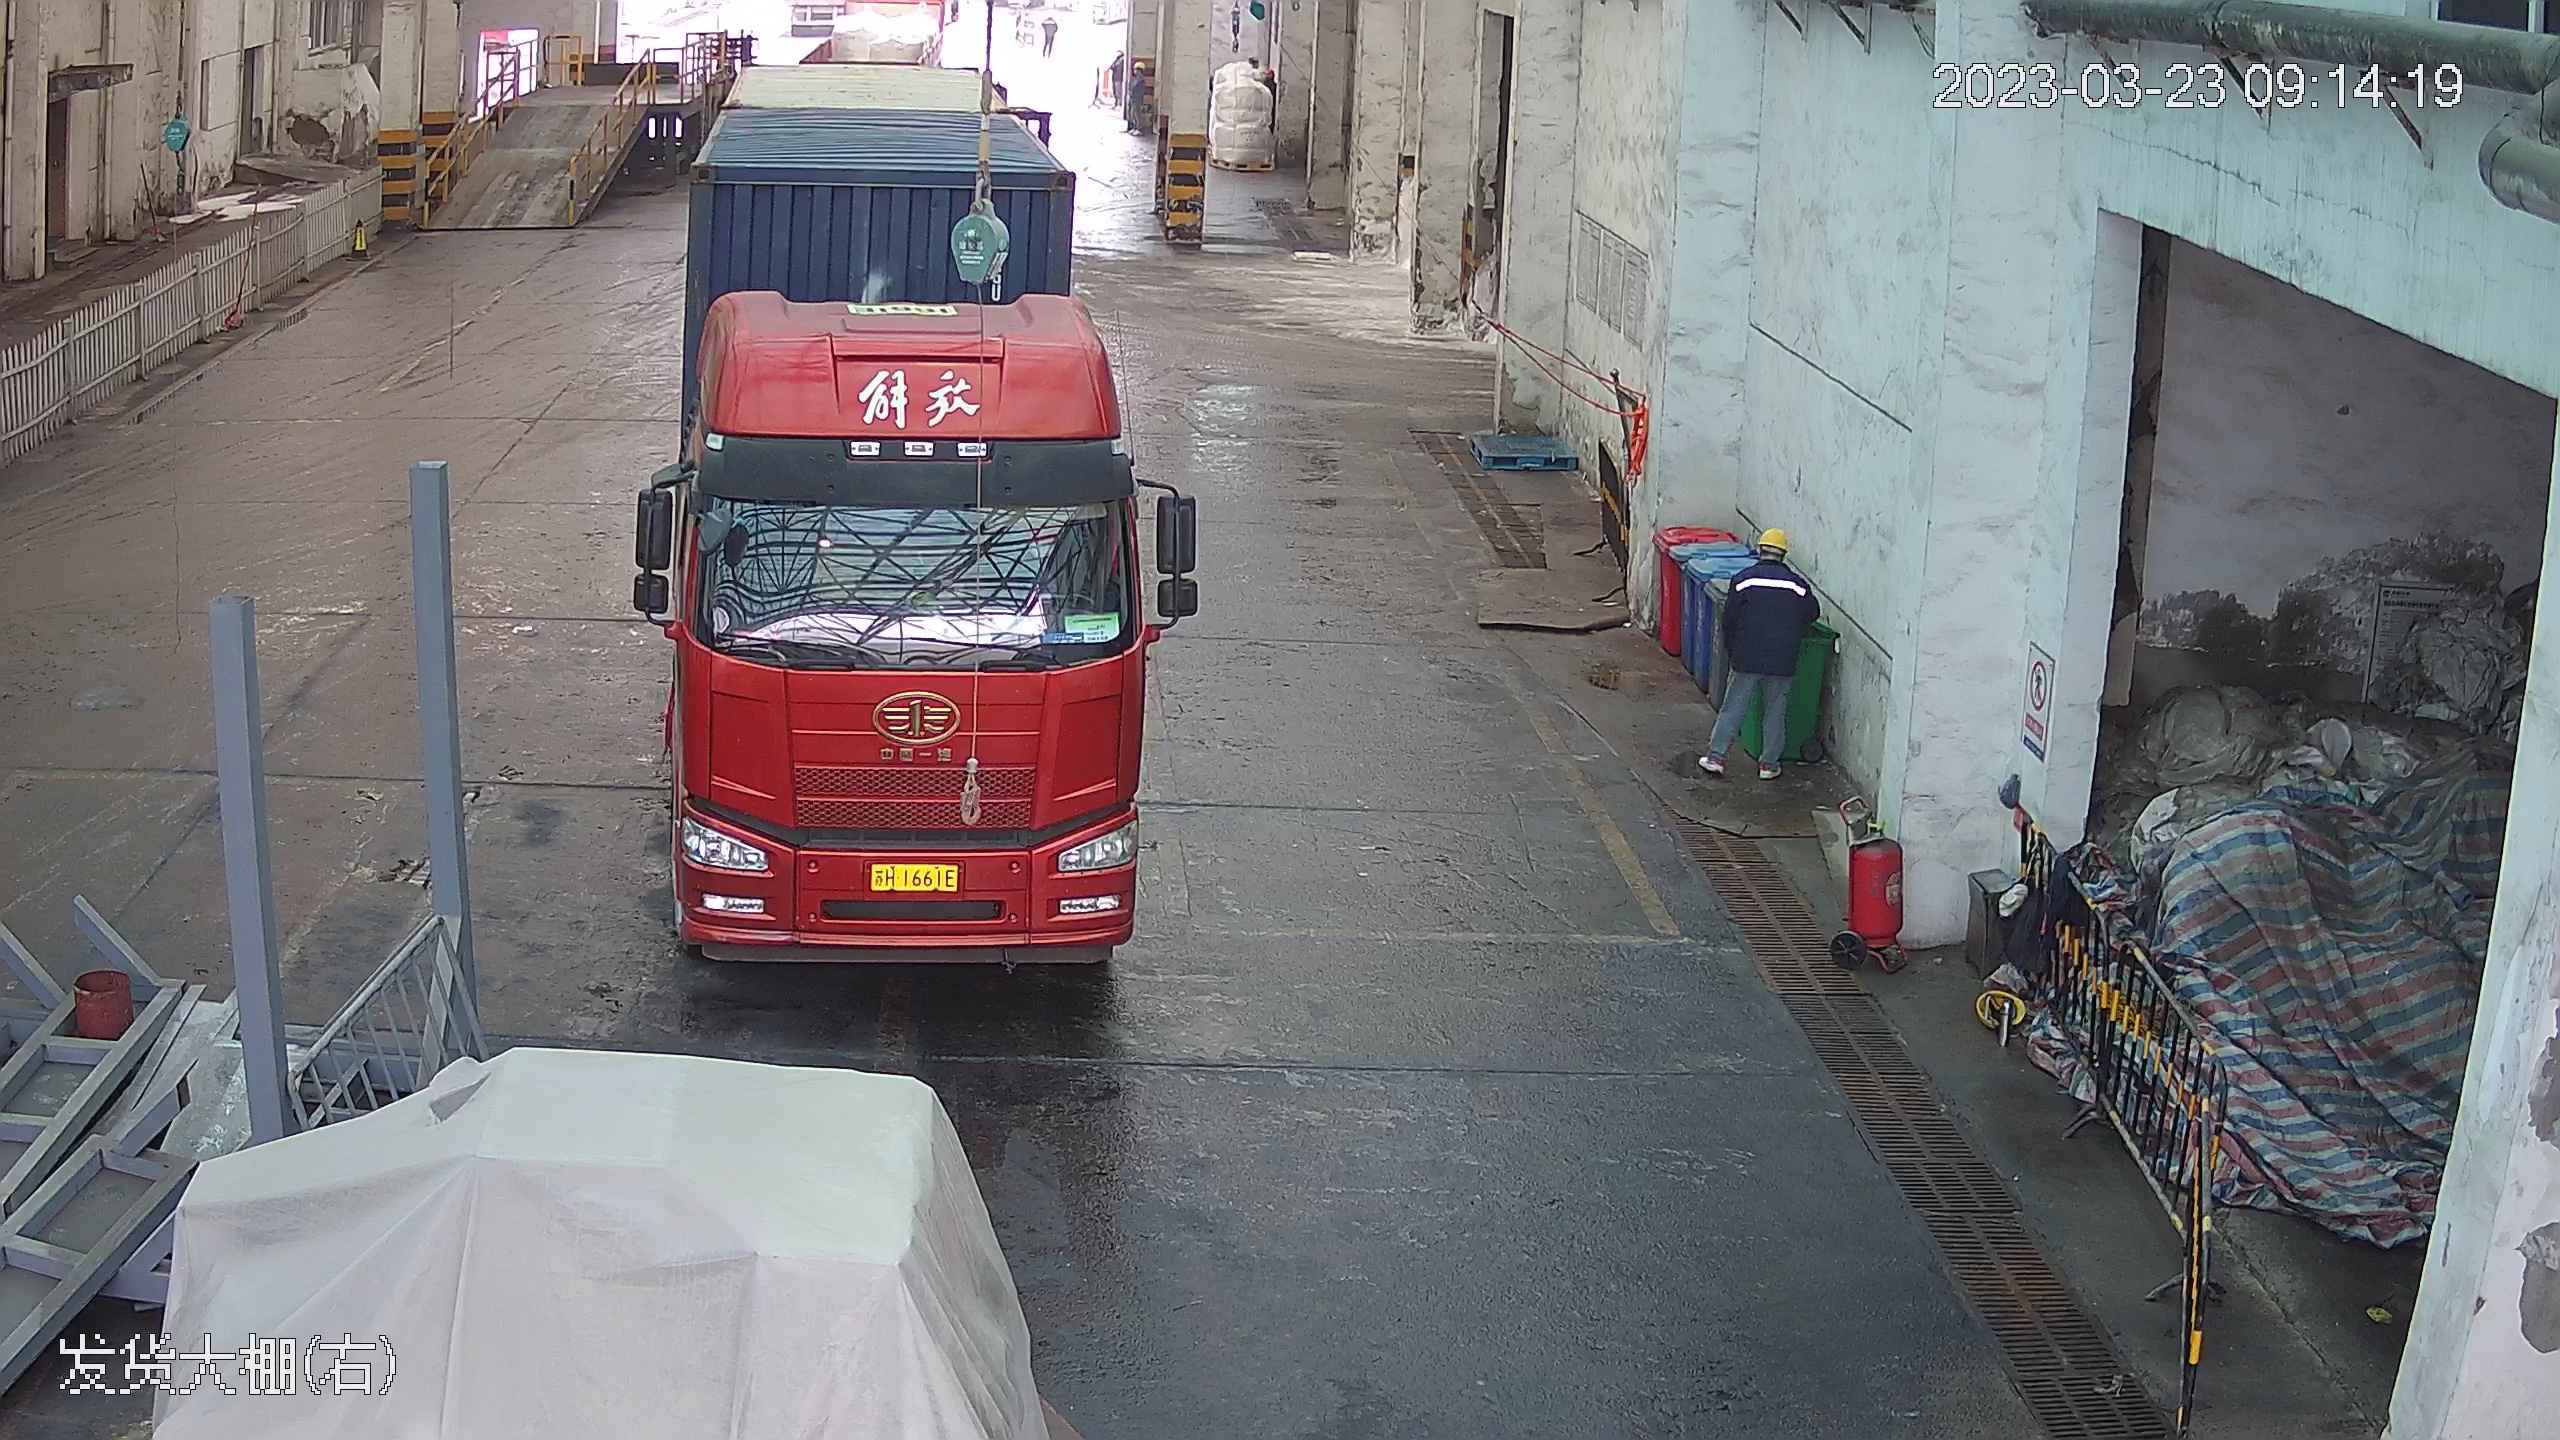head: (1726, 522, 1813, 611)
helmet: (1754, 523, 1794, 556)
people: (1695, 519, 1823, 779)
truck: (634, 26, 1177, 963)
